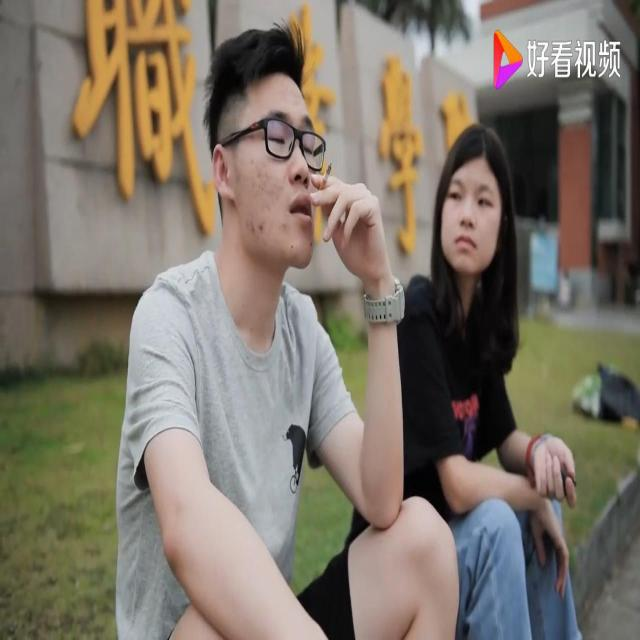smoke: (315, 150, 334, 204)
